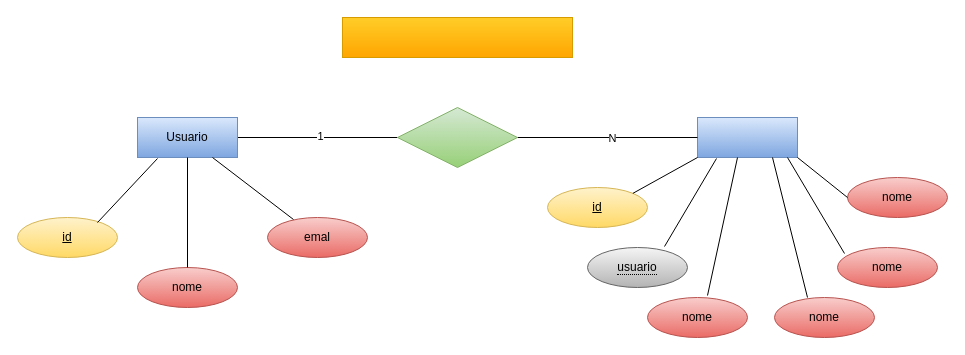
Some shapes in this 965 by 355 pixel diagram are drawn without their labels. The shapes that lost their labels are listed below. From the top down, each one's centre as x and y in pixels, then its label:
At [457,37]: "Projeto: Livro Caixa DER Conceitual".
At [457,137]: "faz".
At [747,137]: "Lancamento".
